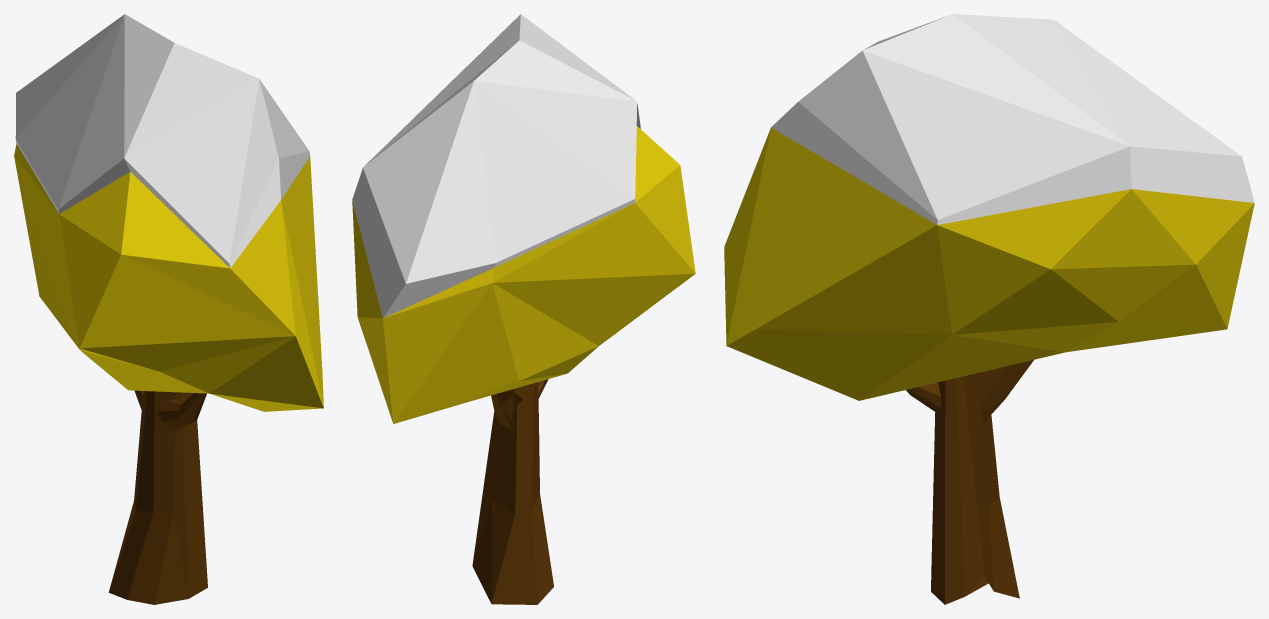
The model's file is Bush#5_Snow.fbx.
3 renders of one model, left to right at view 1: azimuth 30°, elevation 25°; view 2: azimuth 150°, elevation 25°; view 3: azimuth 270°, elevation 25°, orthographic. The views are drawn at different scales.
Visible parts, largest first — view 1: Bush#5_Snow; view 2: Bush#5_Snow; view 3: Bush#5_Snow.
Part boxes in pixels (x1,y1,x2,y2): Bush#5_Snow: [14, 14, 323, 604]; Bush#5_Snow: [352, 14, 695, 604]; Bush#5_Snow: [724, 14, 1254, 604].
Size of the model in its own units: 92.12 by 184 by 151.
